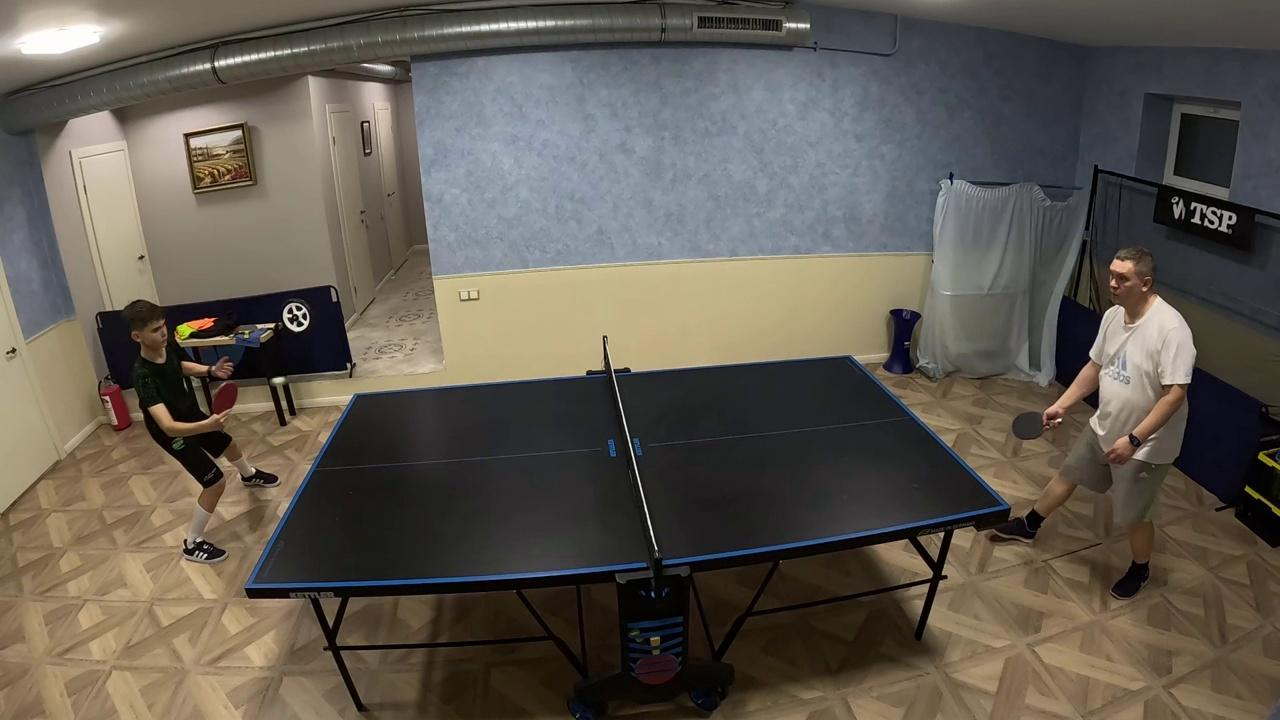Ball: (267, 375, 291, 390)
Net: (603, 335, 663, 581)
Player1: (120, 299, 277, 560)
Player2: (1010, 248, 1195, 550)
Table: (617, 356, 1000, 570), (257, 372, 644, 581)
